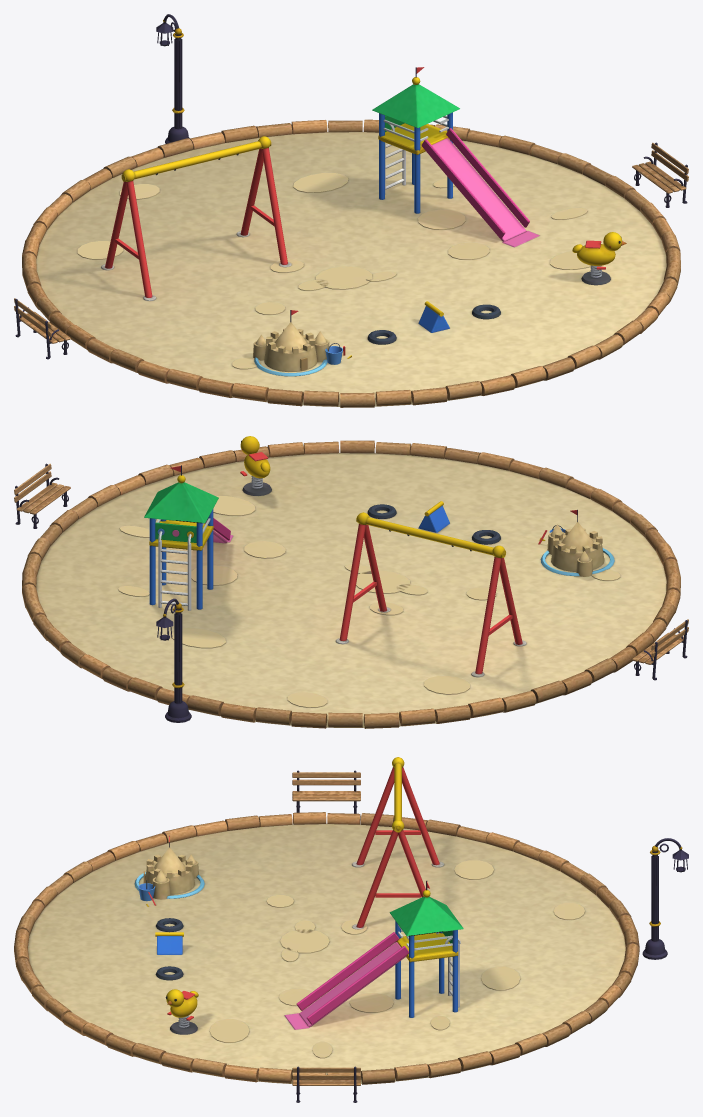
File: playground.glb
3 renders of one model, top to bottom at view 1: azimuth 30°, elevation 25°; view 2: azimuth 150°, elevation 25°; view 3: azimuth 270°, elevation 25°, orthographic. The views are drawn at different scales.
Visible parts, largest first — view 1: cyl; view 2: cyl; view 3: cyl.
Part boxes in pixels (left/top/right/bottom): cyl: left=14, top=14, right=688, bottom=407; cyl: left=14, top=436, right=688, bottom=728; cyl: left=14, top=757, right=688, bottom=1102.
Bounding box in the file's own units: 24.63 × 5 × 23.64.
Materials: 1 (1 with a texture image).
